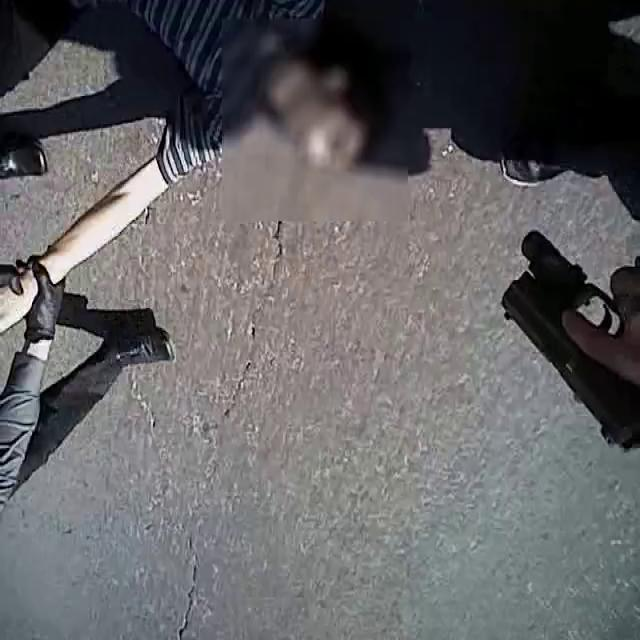gun: (479, 231, 640, 465)
